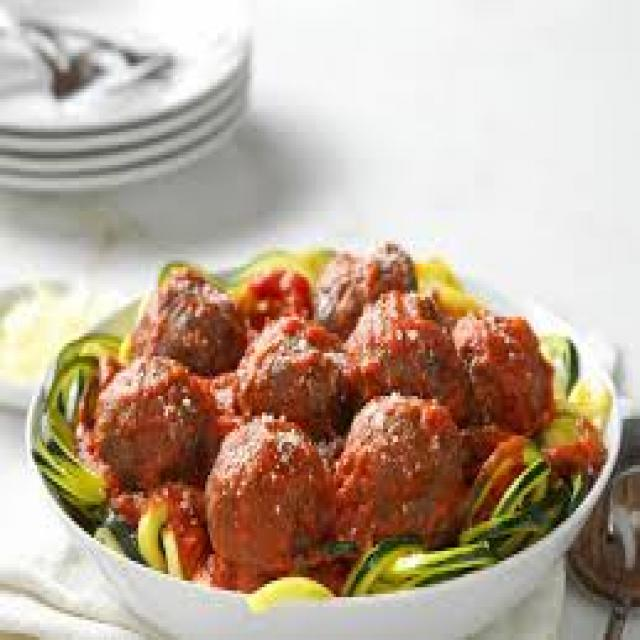Meatball: (197, 406, 335, 571), (335, 390, 465, 536), (87, 350, 223, 484), (337, 284, 463, 416), (448, 303, 561, 443), (231, 308, 350, 439)
